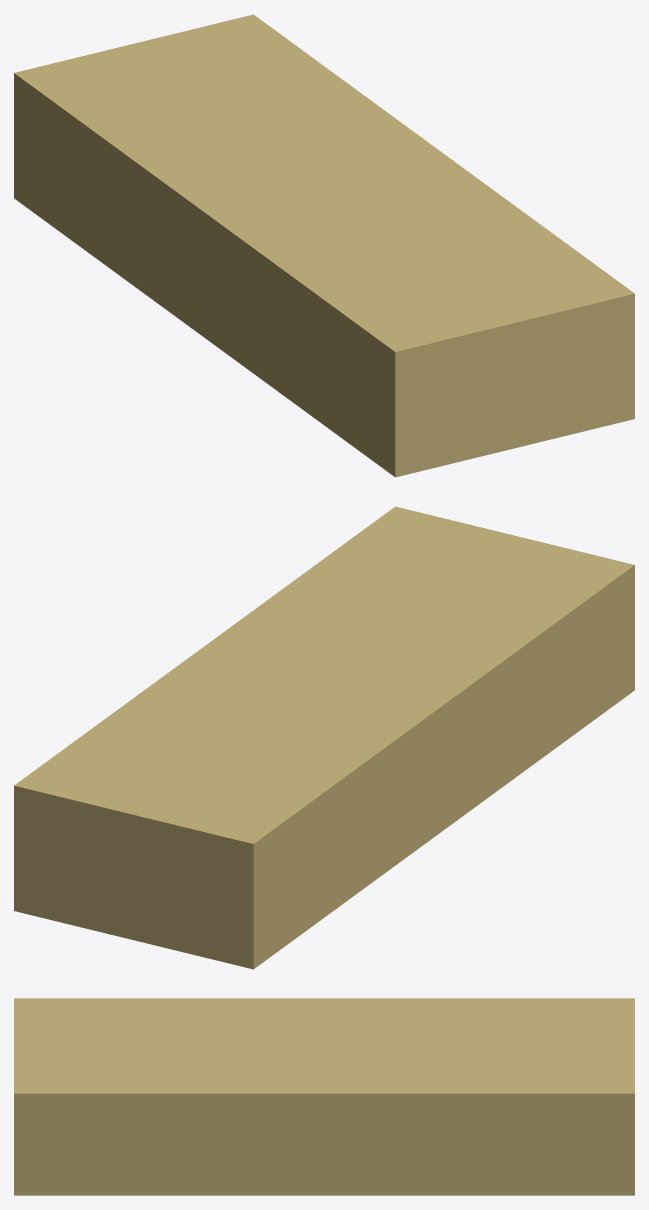
3 views of the same model, one above another, from view 1: azimuth 30°, elevation 25°; view 2: azimuth 150°, elevation 25°; view 3: azimuth 270°, elevation 25° (orthographic). The views are drawn at different scales.
Visible parts, largest first — view 1: RUN-037-S00-NOG-07; view 2: RUN-037-S00-NOG-07; view 3: RUN-037-S00-NOG-07.
Part boxes in pixels (x1,y1,x2,y2): RUN-037-S00-NOG-07: [14, 14, 634, 477]; RUN-037-S00-NOG-07: [14, 506, 634, 969]; RUN-037-S00-NOG-07: [14, 998, 634, 1195].
Bounding box in the file's own units: 0.09 × 0.045 × 0.2481.
